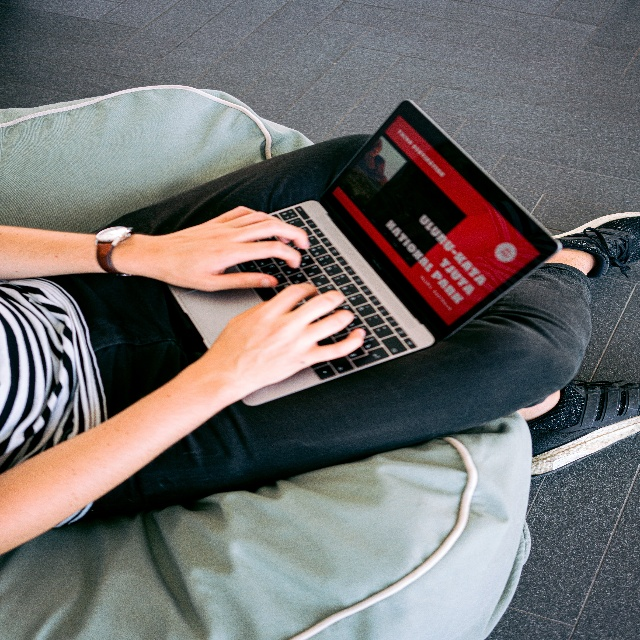Sin_guantes: (213, 283, 366, 395), (166, 205, 310, 293)
